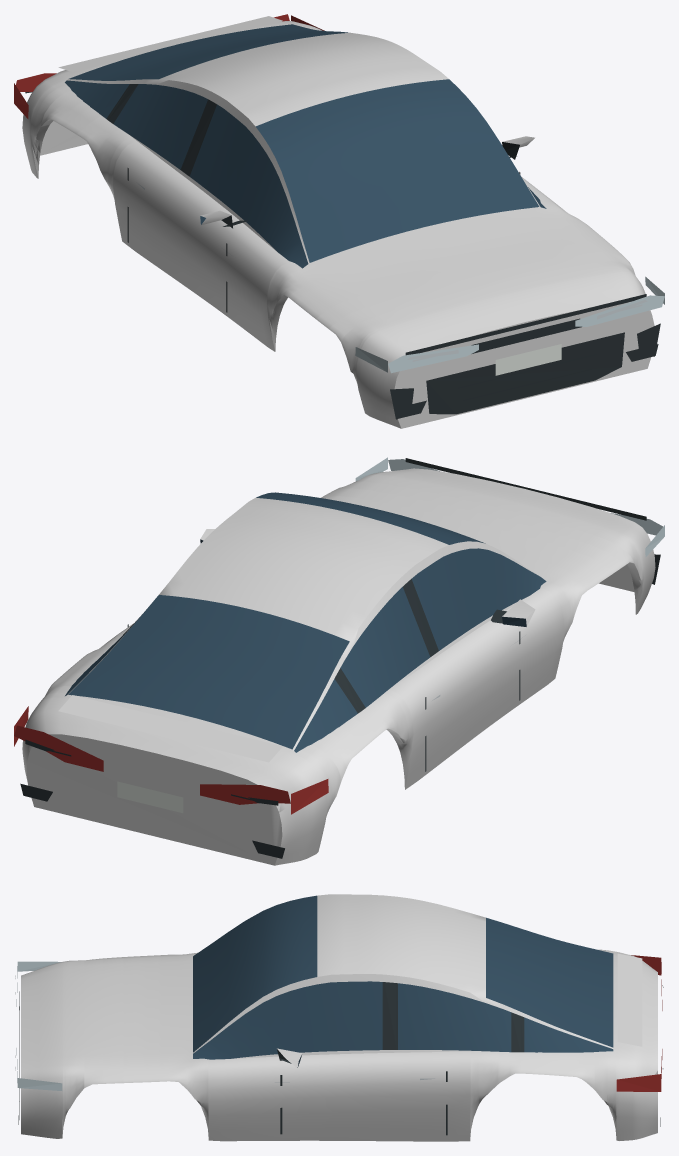
Rendered from veh_civic-lod0.glb.
3 renders of one model, top to bottom at view 1: azimuth 30°, elevation 25°; view 2: azimuth 150°, elevation 25°; view 3: azimuth 270°, elevation 25°, orthographic. The views are drawn at different scales.
Visible parts, largest first — view 1: paint, glass, trim, head, plate, tail; view 2: paint, glass, trim, tail, head, plate; view 3: paint, glass, trim, tail, head.
Boxes of the visible parts, x1,y1,x2,y2 form: paint: (22, 16, 654, 428); glass: (65, 24, 546, 268); trim: (25, 84, 660, 419); head: (355, 276, 664, 373); plate: (495, 344, 561, 375); tail: (14, 14, 324, 118); paint: (22, 468, 655, 865); glass: (65, 492, 546, 752); trim: (20, 458, 660, 858); tail: (14, 706, 328, 814); head: (355, 457, 664, 556); plate: (117, 781, 183, 813); paint: (21, 894, 657, 1141); glass: (193, 895, 613, 1067); trim: (18, 982, 663, 1135); tail: (616, 955, 662, 1091); head: (16, 961, 62, 1090).
Size of the model in its own units: 1.52 by 0.795 by 3.02.
